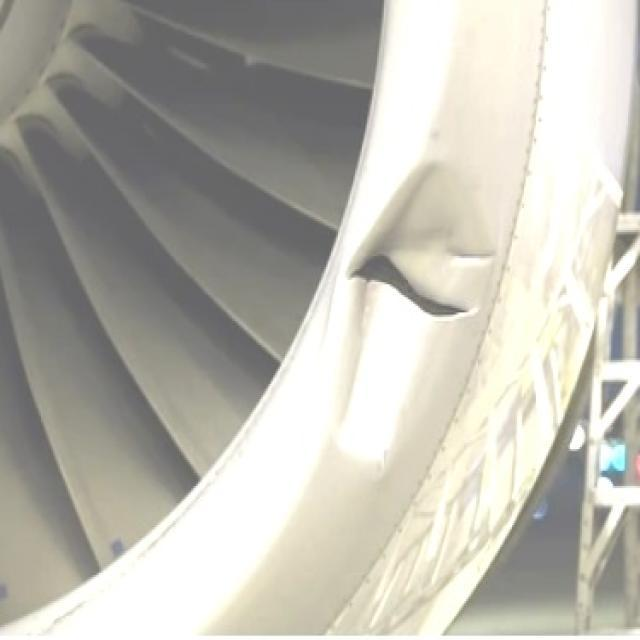crack: (343, 251, 486, 329)
dent: (317, 155, 496, 465)
